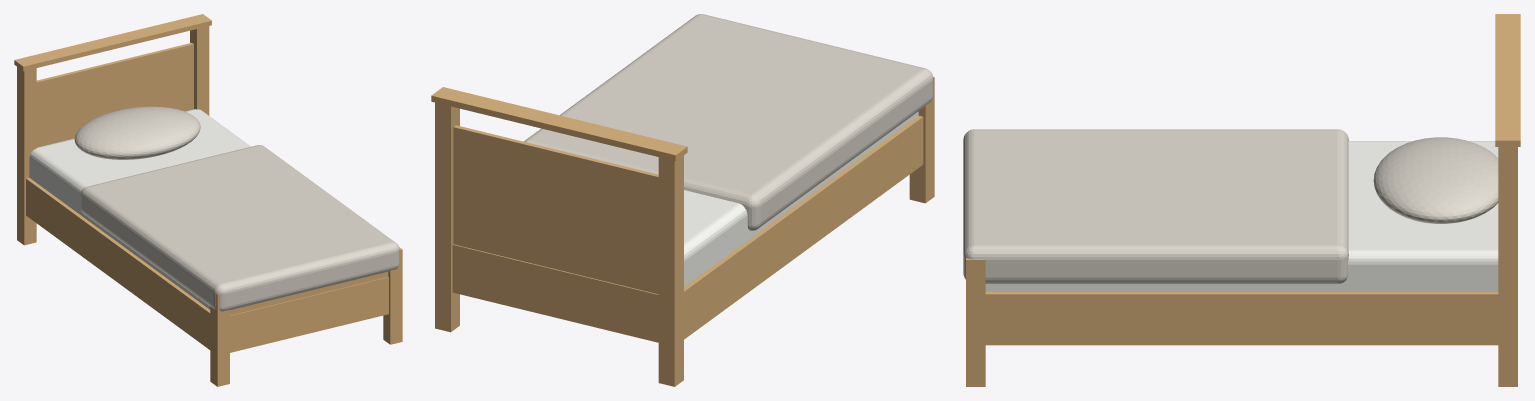
Rendered from 030_twin_bed.glb.
3 renders of one model, left to right at view 1: azimuth 30°, elevation 25°; view 2: azimuth 150°, elevation 25°; view 3: azimuth 270°, elevation 25°, orthographic. The views are drawn at different scales.
Parts seen in each view (by area): view 1: 015_bed_duvet, 008_bed_headboard_panel, 004_bed_side_rail_l, 014_bed_mattress, 007_bed_foot_rail, 016_bed_pillow_1, 000_bed_head_post, 009_bed_headboard_cap, 001_bed_foot_post, 002_bed_head_post, 003_bed_foot_post, 010_bed_footboard_panel; view 2: 015_bed_duvet, 008_bed_headboard_panel, 004_bed_side_rail_l, 006_bed_head_rail, 000_bed_head_post, 014_bed_mattress, 002_bed_head_post, 009_bed_headboard_cap, 001_bed_foot_post; view 3: 015_bed_duvet, 005_bed_side_rail_r, 014_bed_mattress, 016_bed_pillow_1, 002_bed_head_post, 009_bed_headboard_cap, 003_bed_foot_post.
Boxes of the visible parts, x1,y1,x2,y2 form: 015_bed_duvet: (80,145,399,311); 008_bed_headboard_panel: (36,42,193,147); 004_bed_side_rail_l: (26,177,210,349); 014_bed_mattress: (29,109,250,309); 007_bed_foot_rail: (230,277,388,352); 016_bed_pillow_1: (74,106,200,159); 000_bed_head_post: (17,67,36,245); 009_bed_headboard_cap: (14,14,211,71); 001_bed_foot_post: (210,294,229,386); 002_bed_head_post: (190,26,209,115); 003_bed_foot_post: (383,247,402,344); 010_bed_footboard_panel: (230,272,388,315); 015_bed_duvet: (524,14,933,230); 008_bed_headboard_panel: (453,125,658,294); 004_bed_side_rail_l: (684,115,923,339); 006_bed_head_rail: (452,244,658,342); 000_bed_head_post: (658,155,683,386); 014_bed_mattress: (684,111,918,286); 002_bed_head_post: (435,102,459,332); 009_bed_headboard_cap: (431,87,687,161); 001_bed_foot_post: (909,77,934,203); 015_bed_duvet: (963,129,1348,283); 005_bed_side_rail_r: (985,292,1498,345); 014_bed_mattress: (985,141,1498,291); 016_bed_pillow_1: (1373,137,1498,223); 002_bed_head_post: (1498,147,1517,386); 009_bed_headboard_cap: (1495,14,1520,146); 003_bed_foot_post: (966,258,985,386).
Size of the model in its own units: 1.07 by 0.975 by 1.99.
